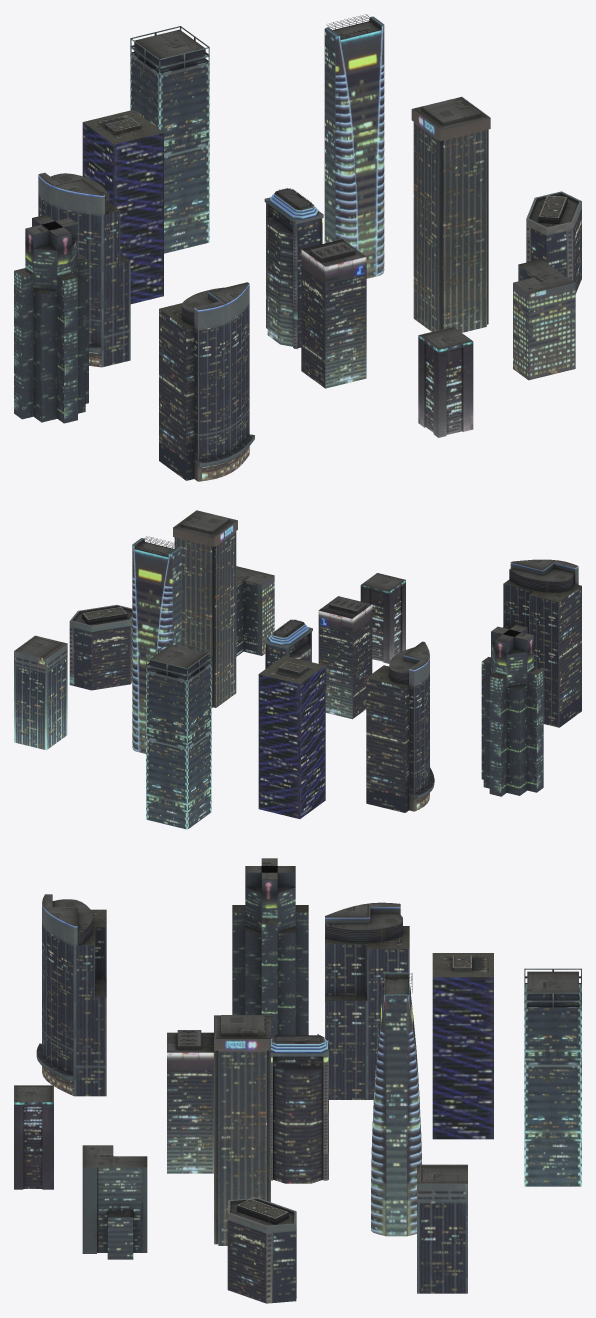
Rendered from night-city-building-pack.glb.
3 views of the same model, one above another, from view 1: azimuth 30°, elevation 25°; view 2: azimuth 150°, elevation 25°; view 3: azimuth 270°, elevation 25° (orthographic). The views are drawn at different scales.
Parts seen in each view (by area): view 1: Cube.001; view 2: Cube.001; view 3: Cube.001.
Boxes of the visible parts, left/top/right/bottom form: Cube.001: left=14, top=14, right=581, bottom=481; Cube.001: left=14, top=510, right=581, bottom=829; Cube.001: left=14, top=858, right=581, bottom=1303.
Bounding box in the file's own units: 196 × 81.99 × 173.
1 material, 1 textured.
